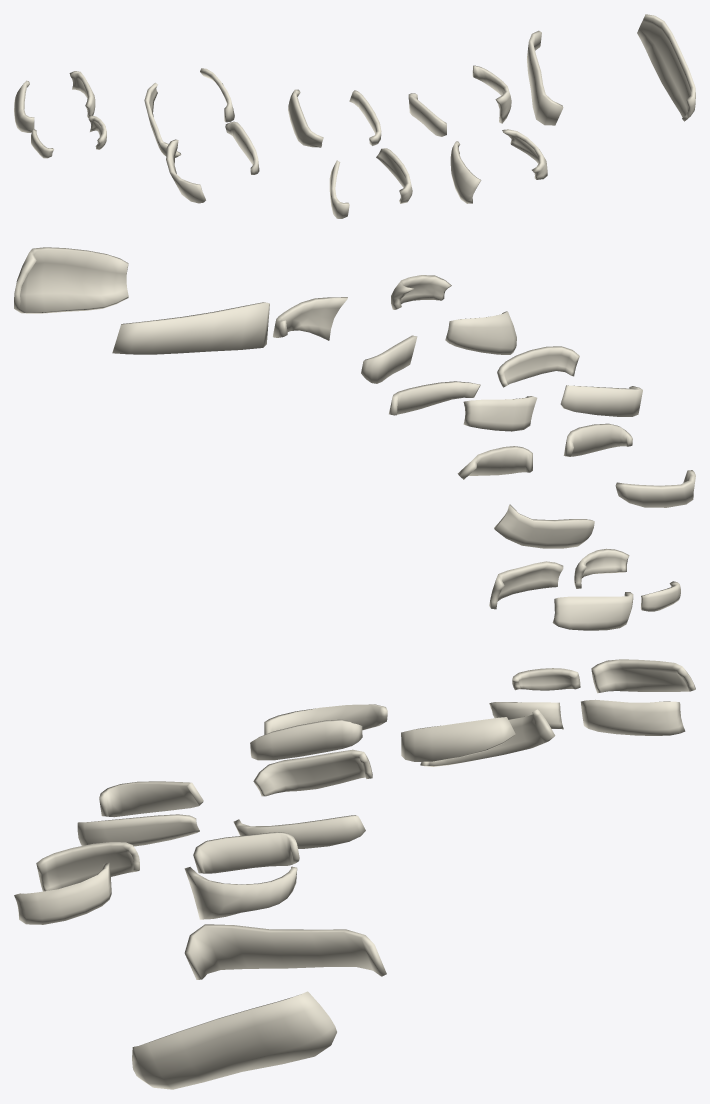
3 views of the same model, one above another, from view 1: azimuth 30°, elevation 25°; view 2: azimuth 150°, elevation 25°; view 3: azimuth 270°, elevation 25° (orthographic). The views are drawn at different scales.
Visible parts, largest first — view 1: ZA_f7dd05fca175131e; view 2: ZA_f7dd05fca175131e; view 3: ZA_f7dd05fca175131e.
Part boxes in pixels (x1,y1,x2,y2): ZA_f7dd05fca175131e: [14, 14, 695, 218]; ZA_f7dd05fca175131e: [14, 247, 695, 630]; ZA_f7dd05fca175131e: [14, 659, 695, 1089].
Size of the model in its own units: 0.078 by 0.00926 by 0.0544.
